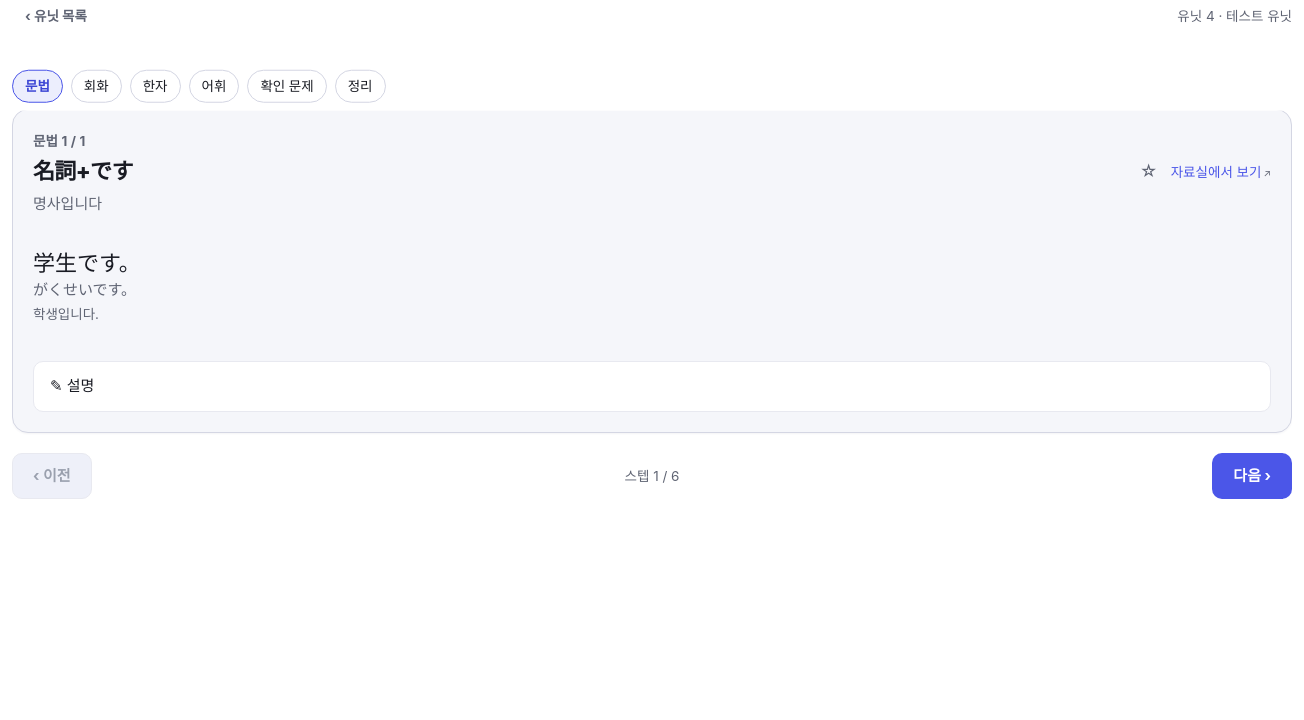
it: [다음 ›]만 눌러서 확인 문제에 닿는다 (AC-Q-1 · AC-Q-4) › 어떤 유닛에서도 정리에서 n = N 이고 N = 칩 수다
Click the button "정리". click: click(360, 86)
box: [335, 70, 386, 102]
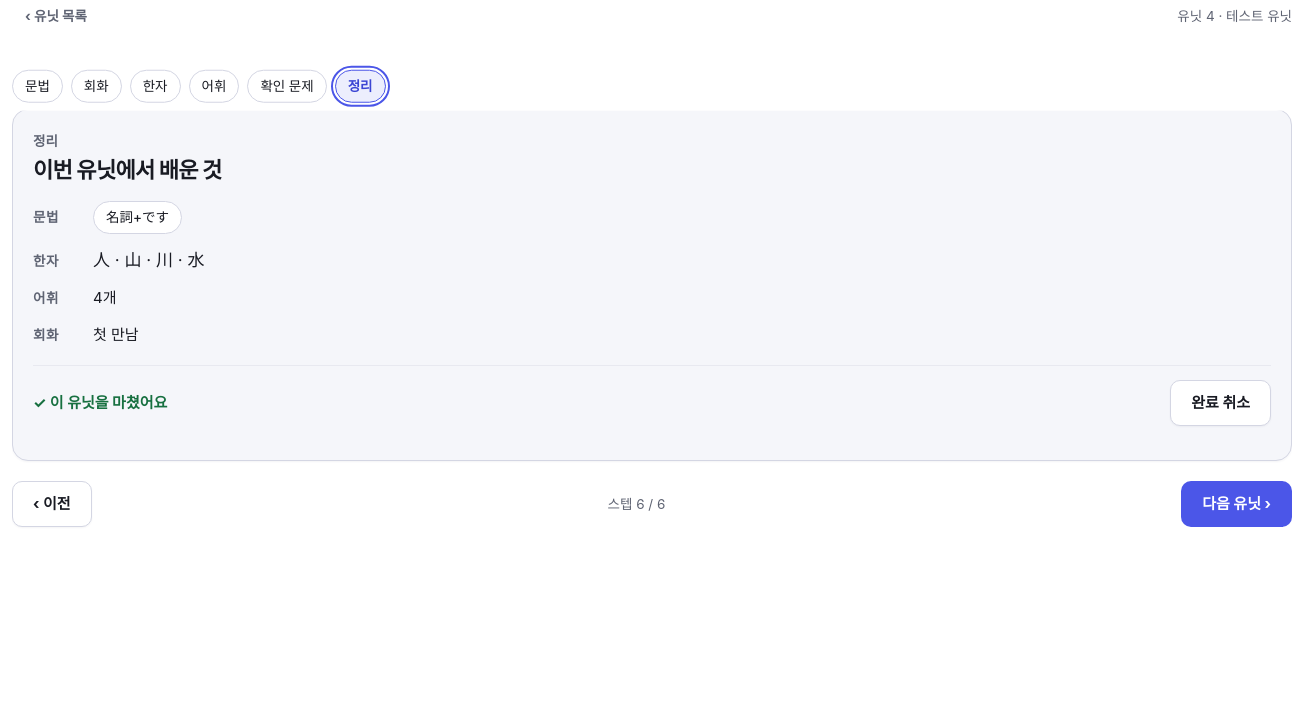
Now the text "스텝 6 / 6" is shown, box [608, 493, 665, 516]
